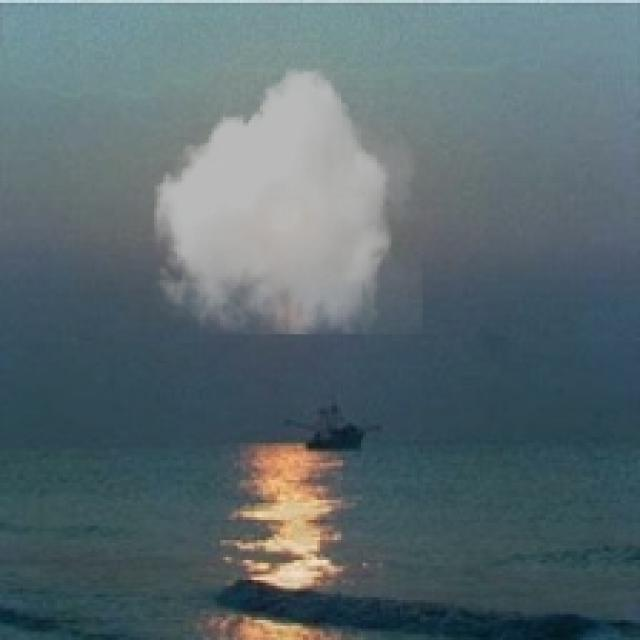smoke: (148, 69, 423, 334)
